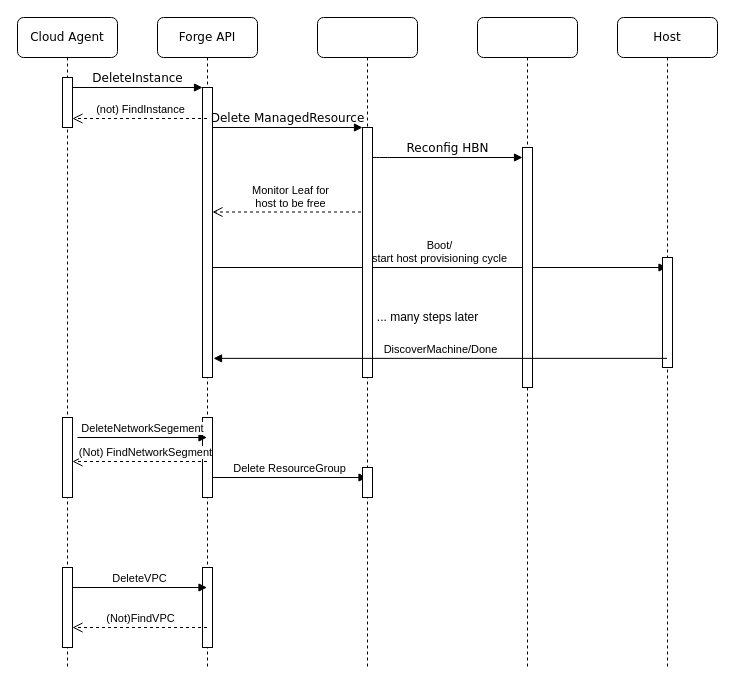
This 735x685 diagram has some shape labels left out. The shapes that lost their labels are listed below. From the top down, each one's box as (x1, y1, x2, y2) in pixels, then its label:
(316, 16, 418, 668): Forge VPC
(476, 16, 578, 668): DPU/HBN
